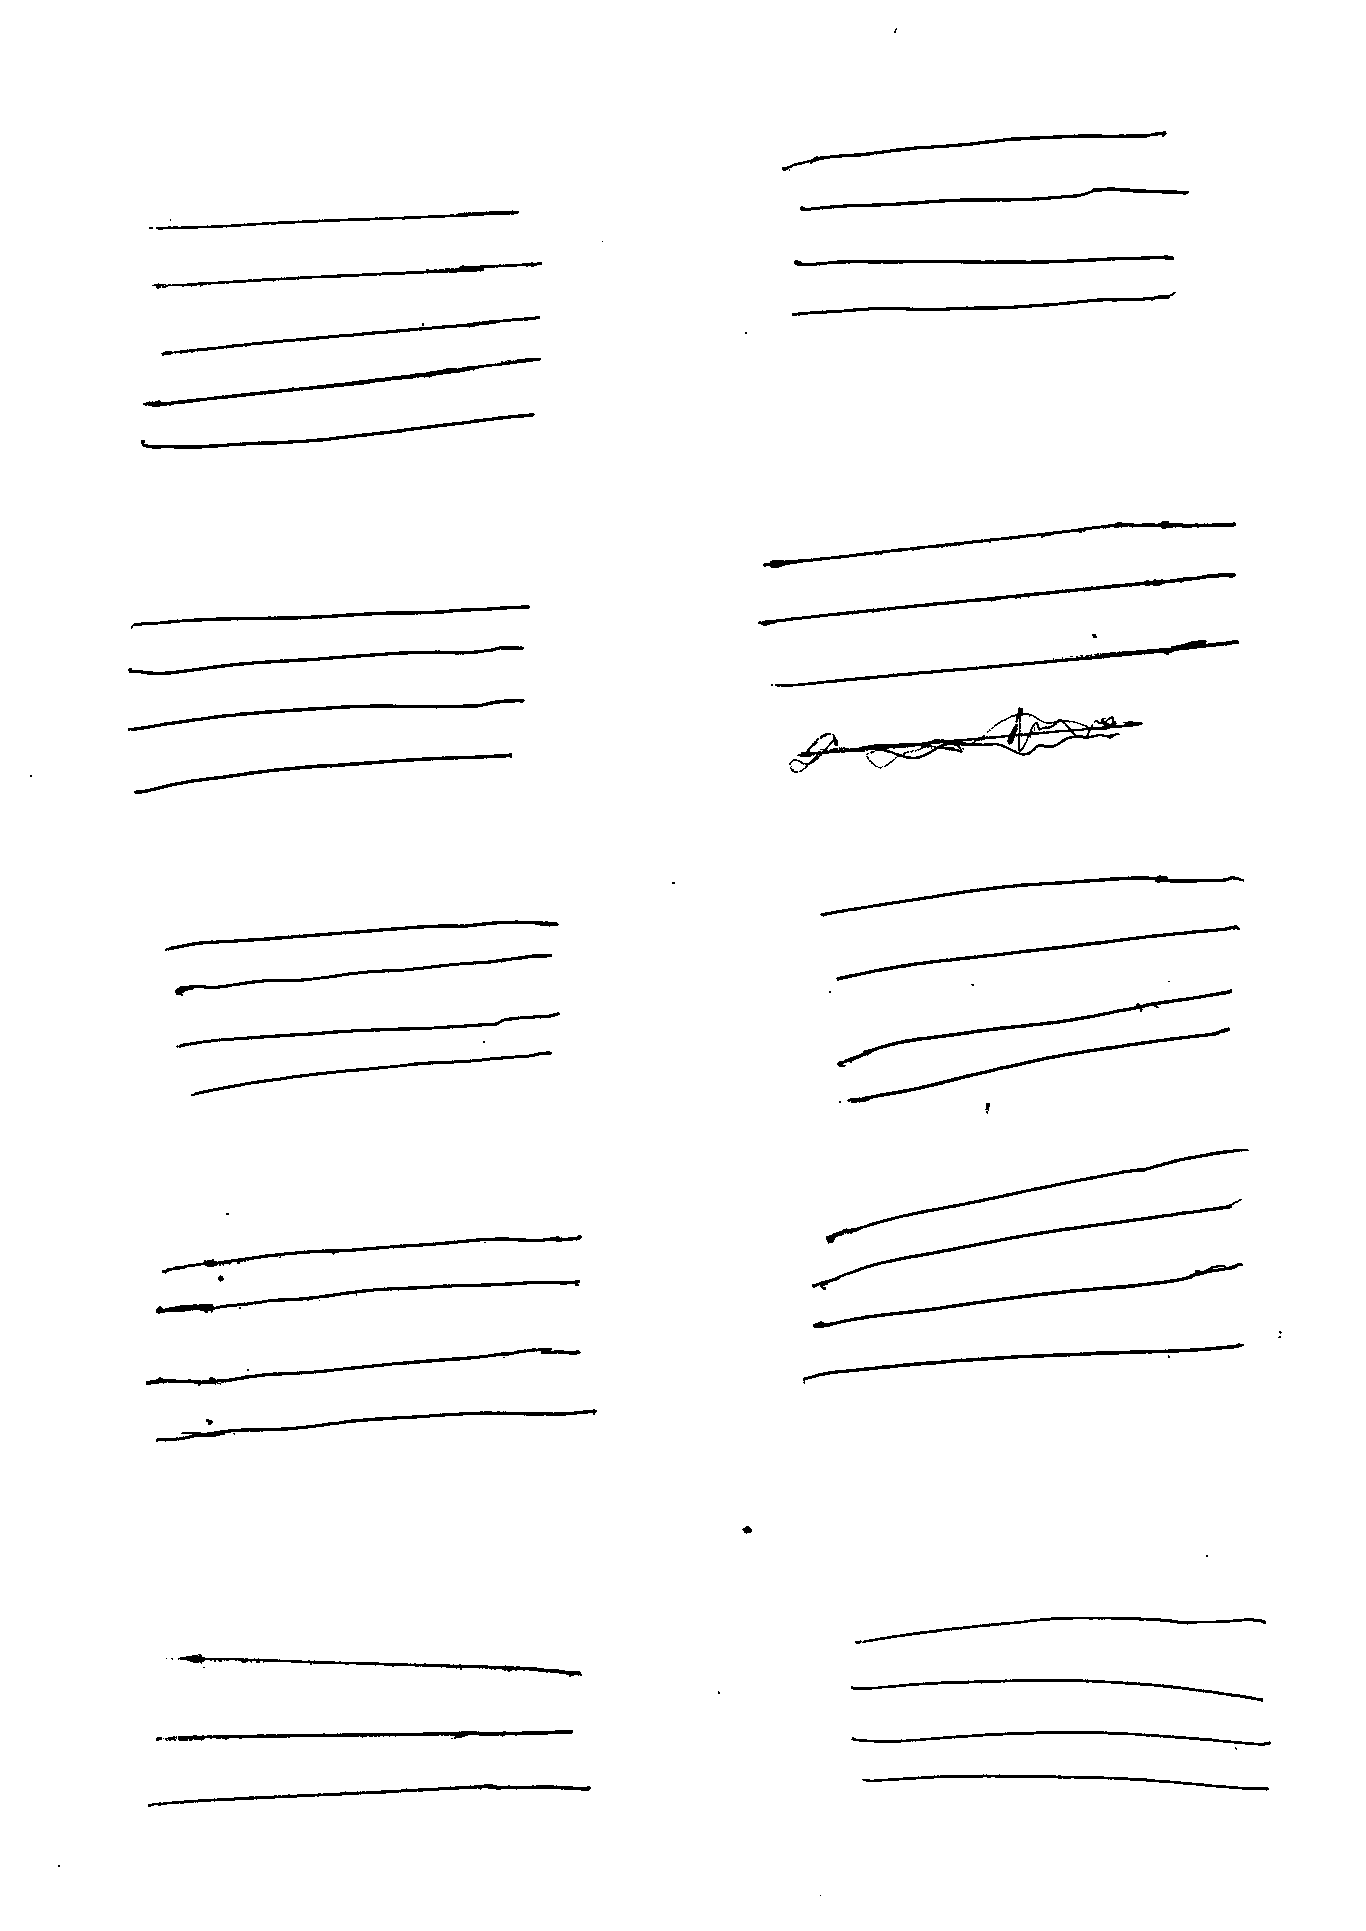Paragraph: (794, 1137, 1248, 1388), (148, 1227, 594, 1453), (819, 869, 1246, 1104), (135, 208, 543, 451), (761, 515, 1243, 696), (779, 132, 1192, 327), (846, 1615, 1282, 1791), (126, 608, 528, 798), (163, 915, 560, 1103), (140, 1656, 591, 1816)
